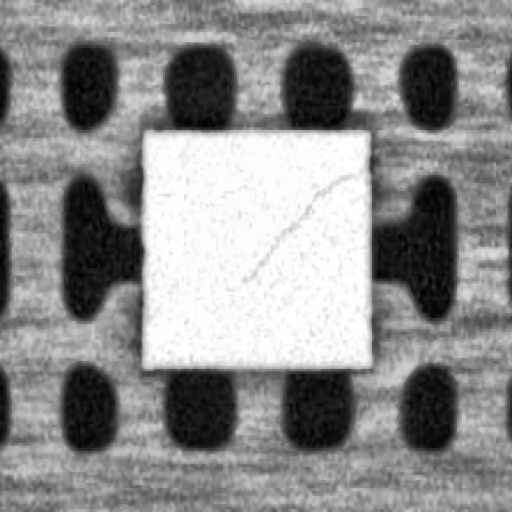DIE_CRACK: (239, 159, 365, 287)
